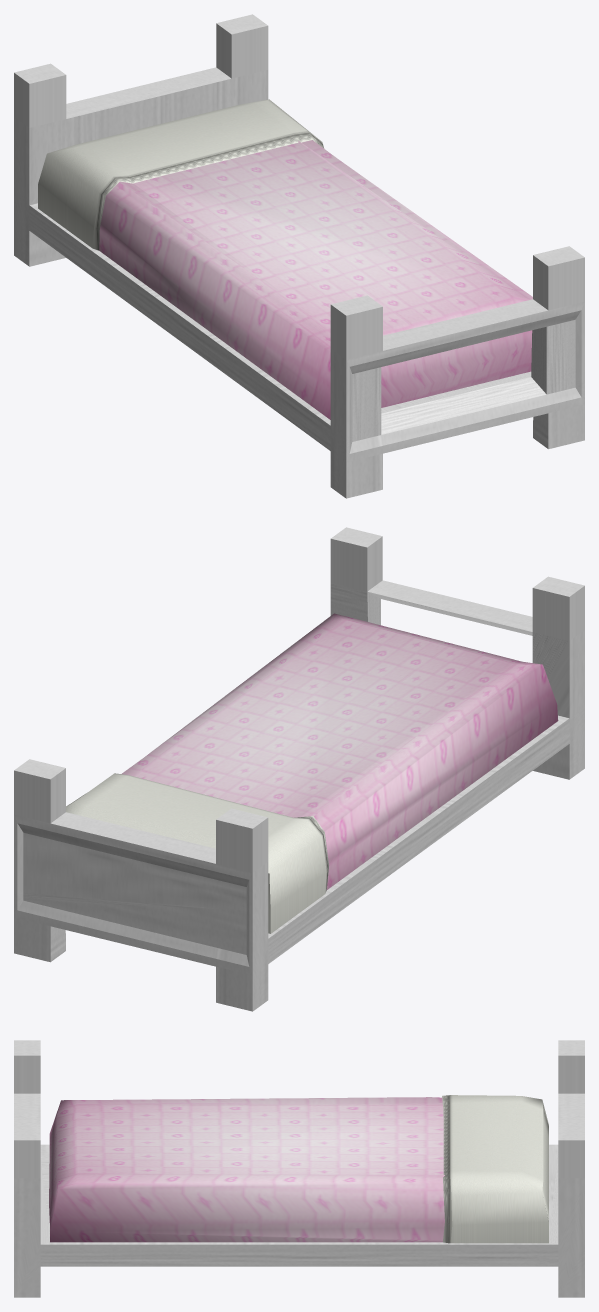
Rendered from Kiddie_Bed_E.FBX.
3 renders of one model, top to bottom at view 1: azimuth 30°, elevation 25°; view 2: azimuth 150°, elevation 25°; view 3: azimuth 270°, elevation 25°, orthographic. The views are drawn at different scales.
Visible parts, largest first — view 1: Kiddie_Bed; view 2: Kiddie_Bed; view 3: Kiddie_Bed.
Part boxes in pixels (x1,y1,x2,y2): Kiddie_Bed: [14, 14, 584, 498]; Kiddie_Bed: [14, 527, 584, 1011]; Kiddie_Bed: [14, 1040, 584, 1297].
Bounding box in the file's own units: 185 × 135 × 445.
